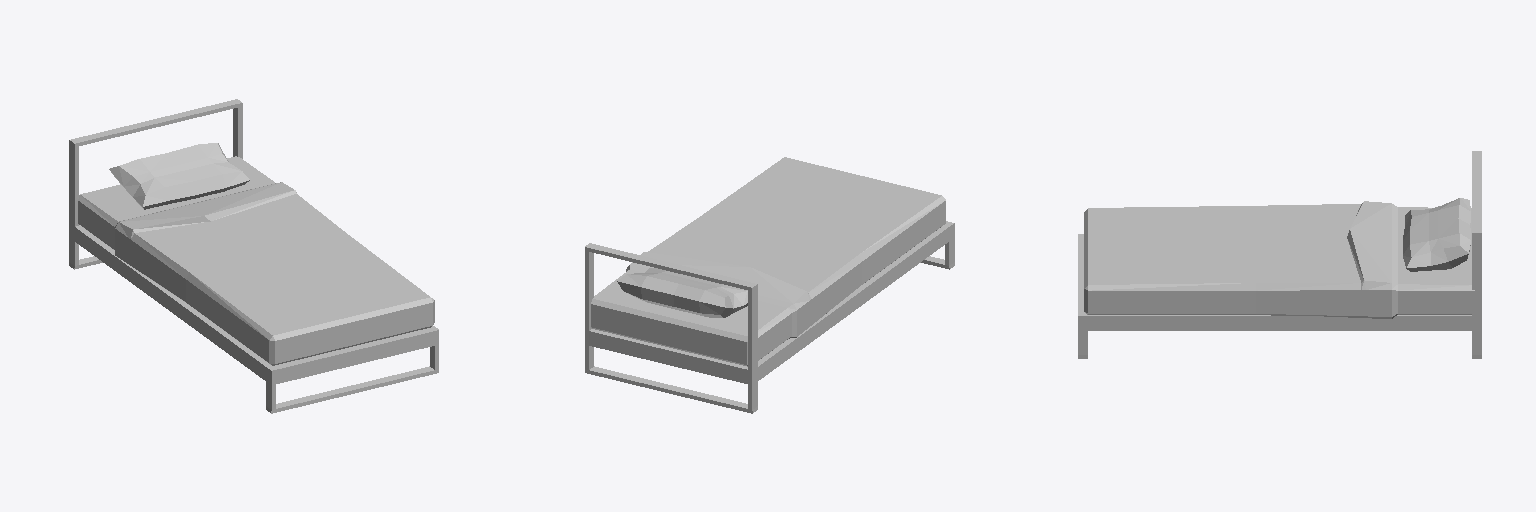
Rendered from Bed_Single.obj.
3 views of the same model, side by side, from view 1: azimuth 30°, elevation 25°; view 2: azimuth 150°, elevation 25°; view 3: azimuth 270°, elevation 25° (orthographic).
Visible parts, largest first — view 1: Bed_Single; view 2: Bed_Single; view 3: Bed_Single.
Boxes of the visible parts, box(x1,y1,x2,y2) form: Bed_Single: box(69, 99, 438, 413); Bed_Single: box(585, 157, 954, 413); Bed_Single: box(1078, 151, 1481, 358).
Size of the model in its own units: 1.93 by 1.35 by 3.94.